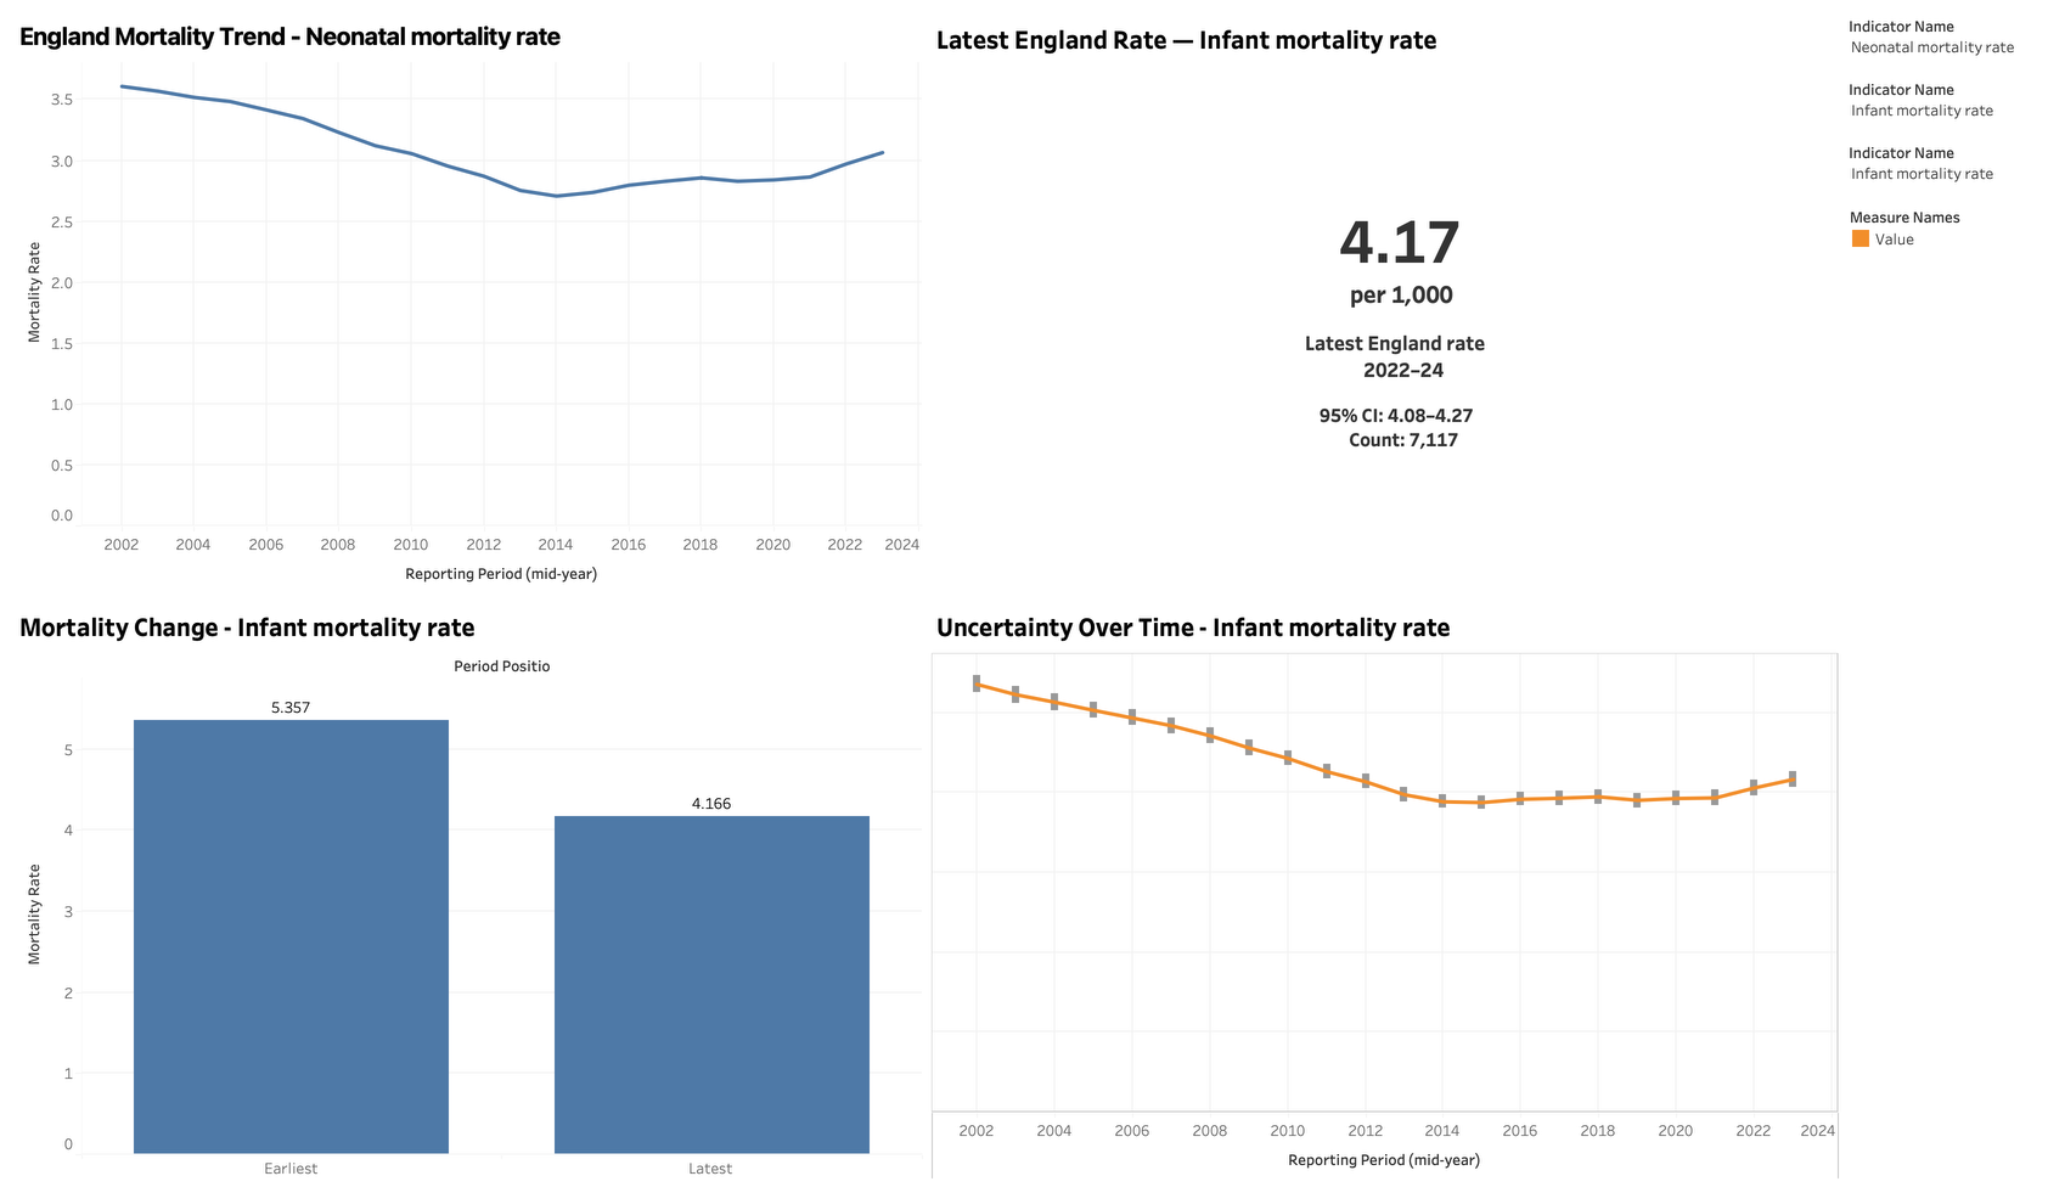

What the dashboard file says about the page in this screenshot:
{"tool":"tableau","page":{"name":"National Mortality Trends","canvas":[1000,1000],"units":"permille","ordinal":3},"visuals":[{"type":"worksheet","title":"S1 - England Mortality Trend","mark":"Line","rows":["Value"],"cols":["PeriodMidYear"],"box":[4.8,8.2,447.7,491.9]},{"type":"worksheet","title":"S2 - Latest England KPI","mark":"Text","box":[452.5,8.2,447.8,491.9]},{"type":"filter","title":"S1 - England Mortality Trend","param":"[federated.1gpdjwb1cy06nn18i0kjj0853xin].[none:IndicatorName:nk]","box":[900.2,8.2,95,53]},{"type":"filter","title":"S3 - Mortality Change","param":"[federated.1gpdjwb1cy06nn18i0kjj0853xin].[none:IndicatorName:nk]","box":[900.2,61.1,95,53]},{"type":"filter","title":"S4 - Mortality Uncertainty","param":"[federated.1gpdjwb1cy06nn18i0kjj0853xin].[none:IndicatorName:nk]","box":[900.2,114.2,95,53]},{"type":"legend","title":"S4 - Mortality Uncertainty","param":"[federated.1gpdjwb1cy06nn18i0kjj0853xin].[:Measure Names]","box":[900.2,167.2,95,46.9]},{"type":"worksheet","title":"S3 - Mortality Change","mark":"Bar","rows":["Value"],"cols":["Calculation_4217633276837888"],"box":[4.8,500,447.7,491.9]},{"type":"worksheet","title":"S4 - Mortality Uncertainty","mark":"Automatic","rows":["LowerCI95","Value"],"cols":["PeriodMidYear"],"box":[452.5,500,447.8,491.9]}]}

Visuals, with their boxes on the dashboard's canvas, which has no fixed pixel size, in thousandths of its width and height (x1, y1, x2, y2). These are canvas units, not pixel positions in the 2048x1193 screenshot, which may show the page scaled, cropped or inside an application window:
"S1 - England Mortality Trend" worksheet (Line marks): [5, 8, 452, 500]
"S2 - Latest England KPI" worksheet (Text marks): [452, 8, 900, 500]
"S1 - England Mortality Trend" filter: [900, 8, 995, 61]
"S3 - Mortality Change" filter: [900, 61, 995, 114]
"S4 - Mortality Uncertainty" filter: [900, 114, 995, 167]
"S4 - Mortality Uncertainty" legend: [900, 167, 995, 214]
"S3 - Mortality Change" worksheet (Bar marks): [5, 500, 452, 992]
"S4 - Mortality Uncertainty" worksheet: [452, 500, 900, 992]
